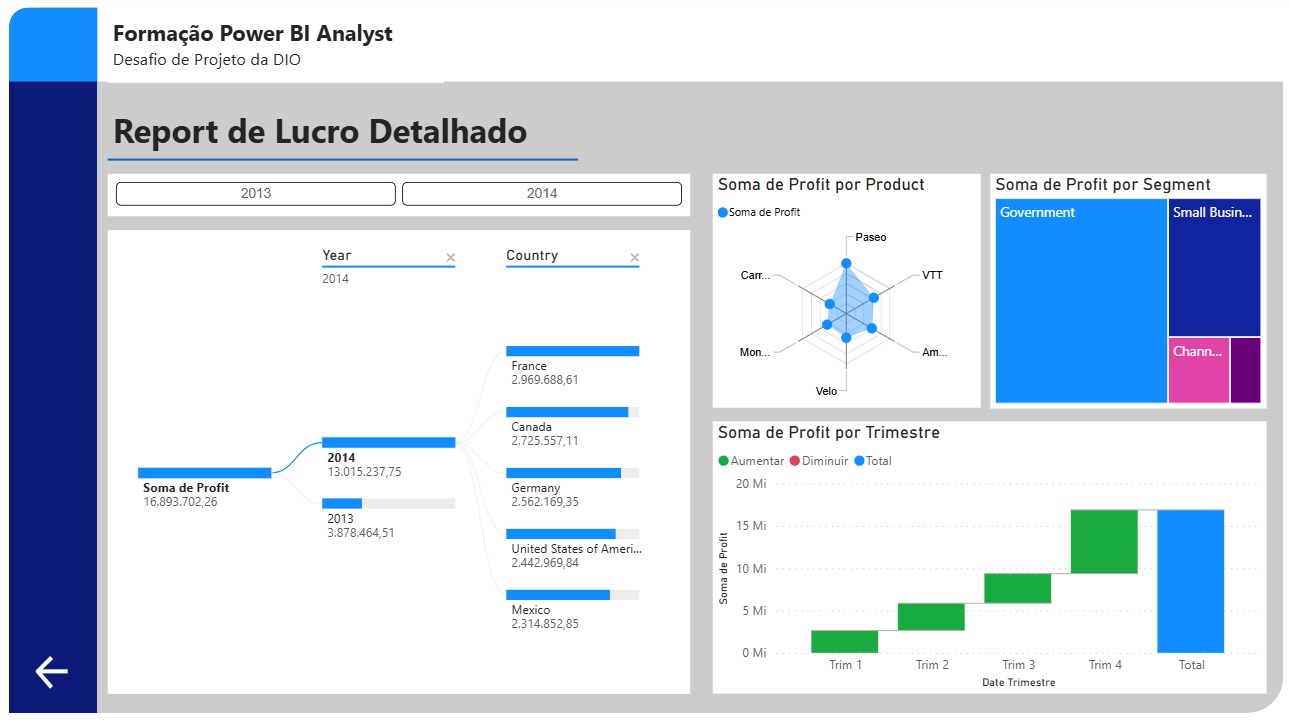

This screenshot's page, from the dashboard's own definition file:
{"tool":"powerbi","page":{"name":"Página 2","canvas":[1280,720],"ordinal":1},"visuals":[{"type":"shape","box":[20,12.5,1246.2,690],"z":0},{"type":"textbox","box":[115.7,105.7,491.4,55.7],"z":0,"group":"g2"},{"type":"shape","box":[20,12.5,86.2,690],"z":1000},{"type":"shape","box":[115.7,147.1,459.7,28.6],"z":1000,"group":"g2"},{"type":"shape","box":[20,12.5,86.2,72.5],"z":2000},{"type":"actionButton","title":"Borracha","box":[1175,103.3,91.7,58.3],"z":2000,"group":"g1"},{"type":"shape","box":[106.2,12.5,1160,72.5],"z":3000},{"type":"textbox","box":[115.7,17.1,328.6,68.6],"z":4000},{"type":"group","id":"g1","title":"Filtro por data","box":[1175,103.3,91.7,58.3],"z":5000},{"type":"group","id":"g2","title":"Title Report","box":[115.7,105.7,491.4,70],"z":6000},{"type":"actionButton","box":[41.4,641.4,44.3,41.4],"z":7000},{"type":"ChicletSlicer1448559807354","fields":{"Category":["financials.Year"]},"box":[116.1,174.8,569.6,41.6],"z":8000},{"type":"decompositionTreeVisual","fields":{"Analyze":["Sum(financials.Profit)"],"ExplainBy":["financials.Year","financials.Country"]},"box":[116.1,229.8,569.6,453.5],"z":9000},{"type":"waterfallChart","fields":{"Y":["Sum(financials.Profit)"],"Category":["financials.Date.Variation.Hierarquia de datas.Trimestre"]},"box":[707.8,416.8,541.5,266.5],"z":10000},{"type":"treemap","fields":{"Values":["Sum(financials.Profit)"],"Group":["financials.Segment"]},"box":[979.2,174.8,270.2,229.8],"z":11000},{"type":"RadarChart1446119667547","fields":{"Y":["Sum(financials.Profit)"],"Category":["financials.Product"]},"box":[707.8,174.8,261.6,228.6],"z":11001}]}

Visuals, with their boxes in screenshot pixels (x1, y1, x2, y2), scaled from the page's 1280x720 canvas onto the 1290x727 screenshot:
shape: bbox(20, 13, 1276, 709)
textbox: bbox(117, 107, 612, 163)
shape: bbox(20, 13, 107, 709)
shape: bbox(117, 149, 580, 177)
shape: bbox(20, 13, 107, 86)
"Borracha" actionButton: bbox(1184, 104, 1277, 163)
shape: bbox(107, 13, 1276, 86)
textbox: bbox(117, 17, 448, 87)
"Filtro por data" group: bbox(1184, 104, 1277, 163)
"Title Report" group: bbox(117, 107, 612, 177)
actionButton: bbox(42, 648, 86, 689)
ChicletSlicer1448559807354 - financials.Year: bbox(117, 176, 691, 219)
decompositionTreeVisual - Sum(financials.Profit) x financials.Year: bbox(117, 232, 691, 690)
waterfallChart - Sum(financials.Profit) x financials.Date.Variation.Hierarquia de datas.Trimestre: bbox(713, 421, 1259, 690)
treemap - Sum(financials.Profit) x financials.Segment: bbox(987, 176, 1259, 409)
RadarChart1446119667547 - Sum(financials.Profit) x financials.Product: bbox(713, 176, 977, 407)
